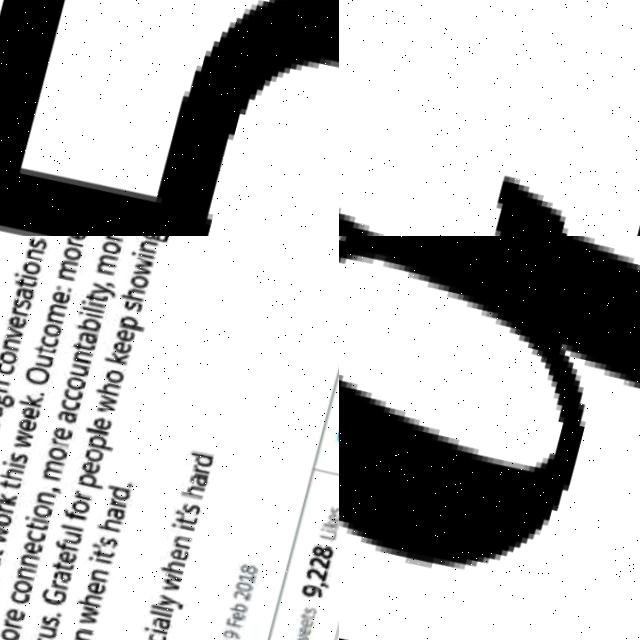0: (235, 583, 254, 596)
1: (237, 576, 256, 586)
2: (308, 558, 332, 576), (305, 570, 329, 586), (233, 592, 252, 604)
5: (0, 0, 339, 236)
8: (312, 548, 334, 564), (239, 565, 259, 579)
9: (301, 586, 325, 604), (221, 630, 242, 640)
Q: (339, 236, 640, 640)
T: (339, 0, 614, 236)
